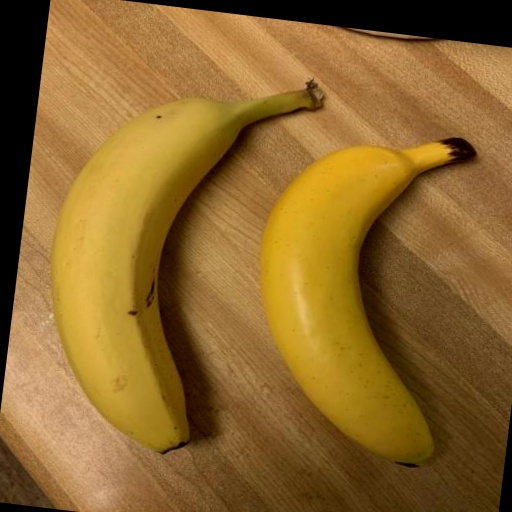fruit: (51, 83, 321, 452), (261, 138, 474, 464)
